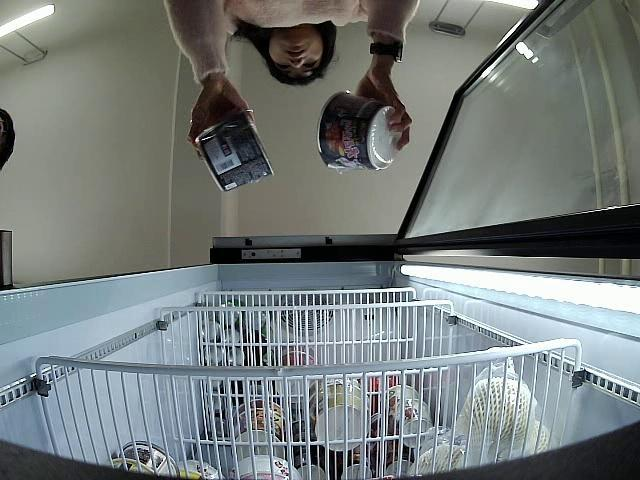07_buldak_L: (192, 111, 274, 196), (316, 90, 401, 172)
